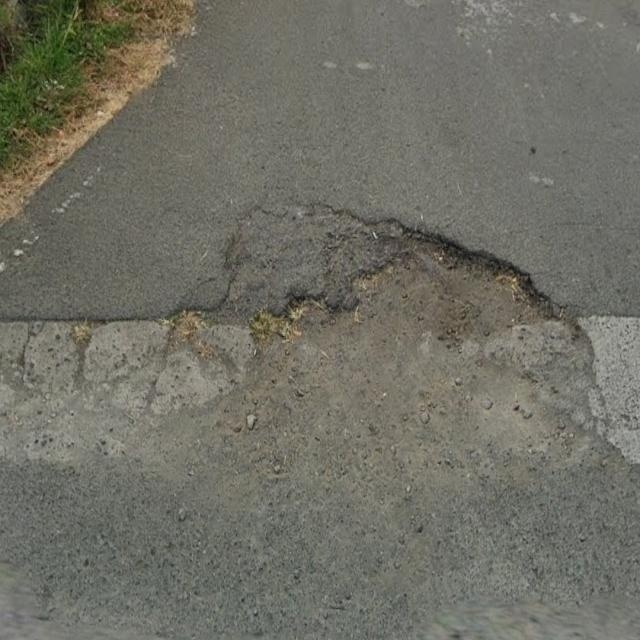pothole: (232, 225, 581, 523)
